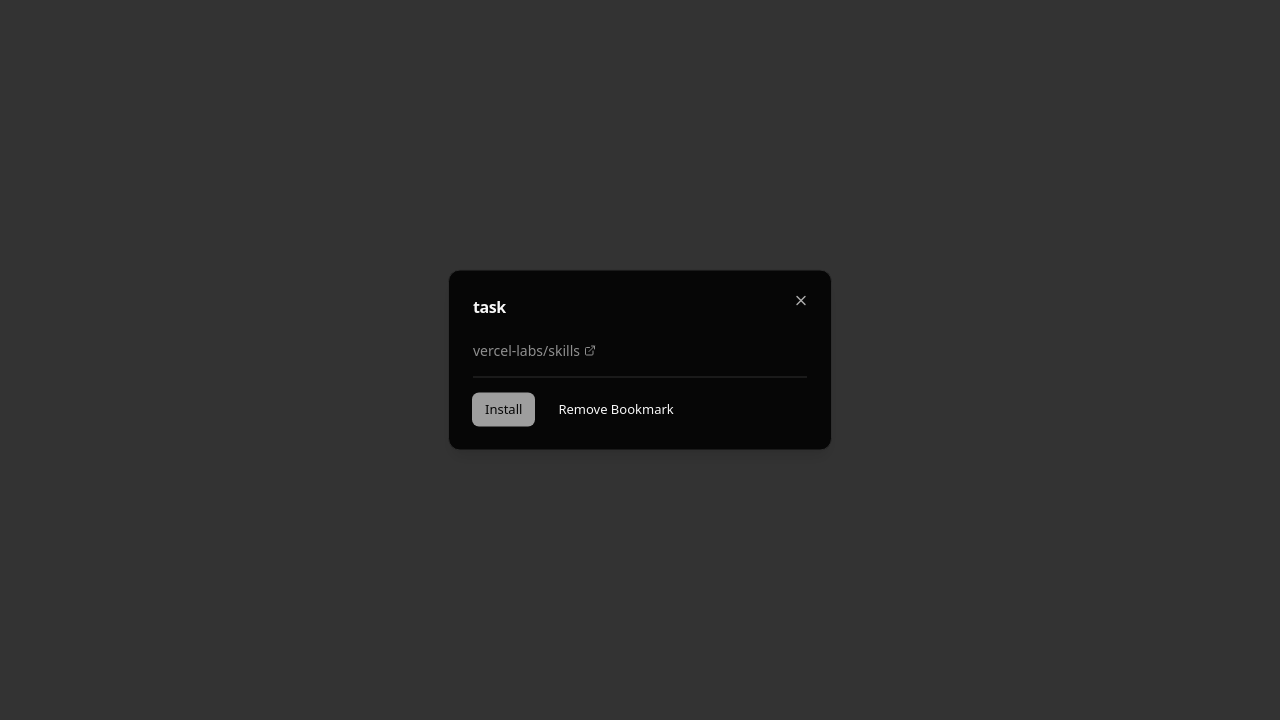
Scenario: BookmarkDetailModal install › closes the detail modal and opens the shared Install Skill modal seeded with the bookmark
The width and height of the screenshot is (1280, 720).
Expected: the button "Remove Bookmark" is shown, [546, 394, 686, 426]
Click the button "Install". click: coordinates (504, 410)
box: [473, 394, 534, 426]
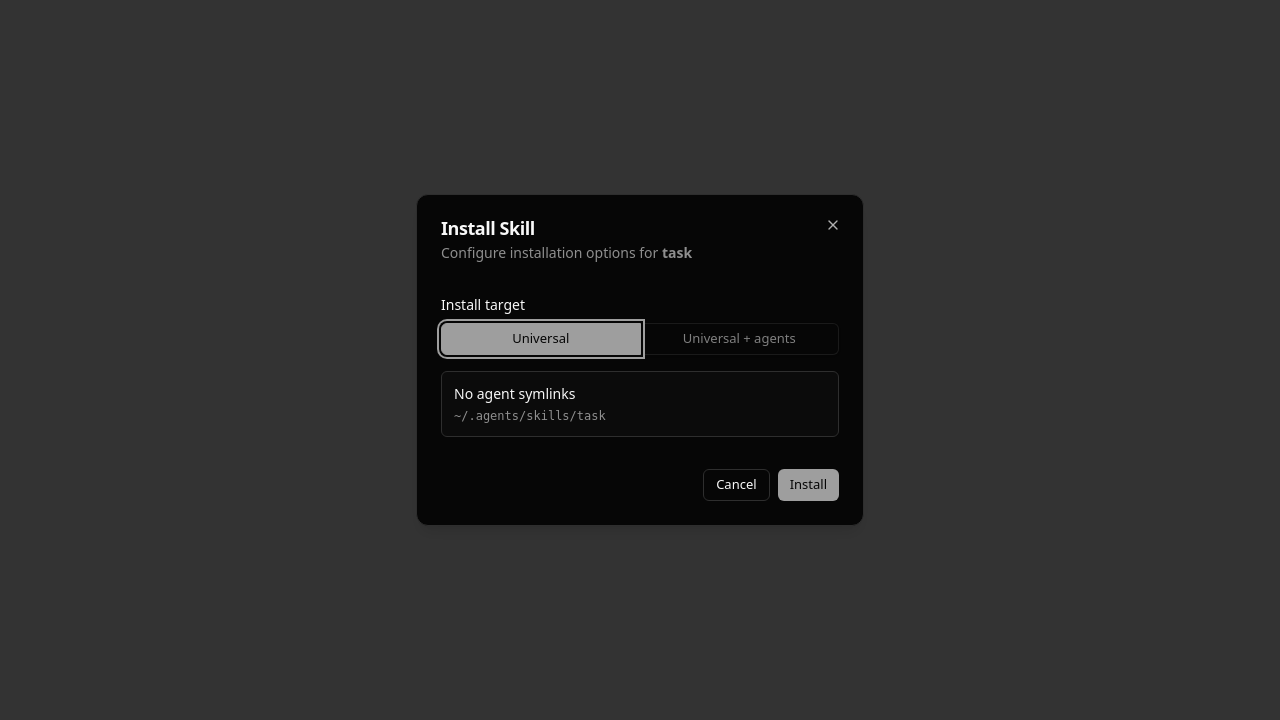
Expected: the dialog "Install Skill" is shown, [416, 194, 864, 526]
